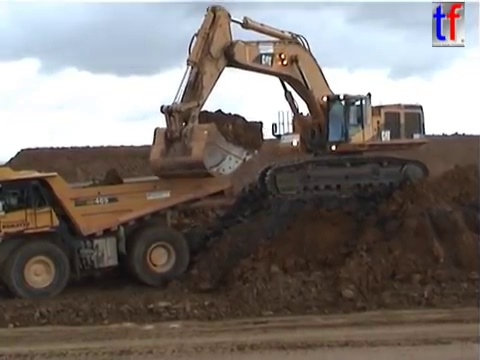excavator: (146, 3, 432, 204)
truck: (1, 161, 234, 301)
